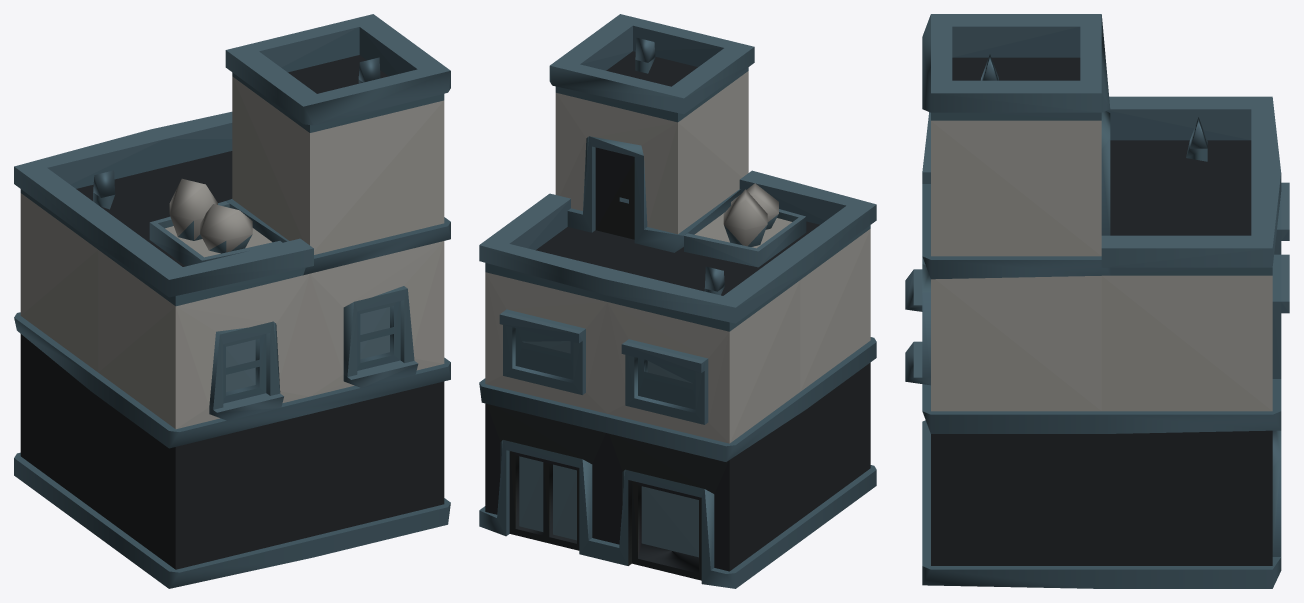
Rendered from building-d.low.f086f3fa.glb.
3 renders of one model, left to right at view 1: azimuth 30°, elevation 25°; view 2: azimuth 150°, elevation 25°; view 3: azimuth 270°, elevation 25°, orthographic. The views are drawn at different scales.
Parts seen in each view (by area): view 1: building-d; view 2: building-d; view 3: building-d.
Part boxes in pixels (box(x1,y1,x2,y2)): building-d: box(14, 14, 450, 588); building-d: box(479, 14, 876, 588); building-d: box(905, 14, 1289, 588).
Bounding box in the file's own units: 10.08 × 15.52 × 10.8.
